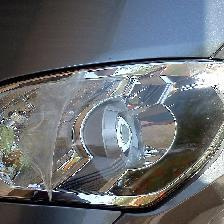head_lamp: (3, 51, 210, 202)
